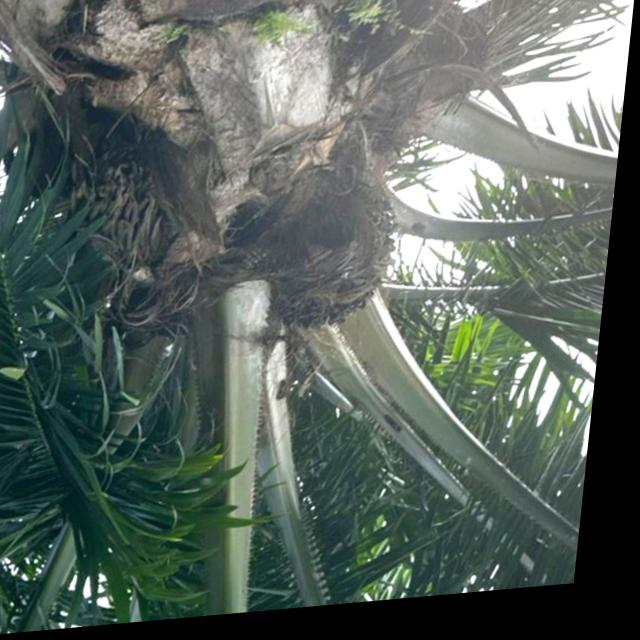unripe: (257, 172, 417, 346)
